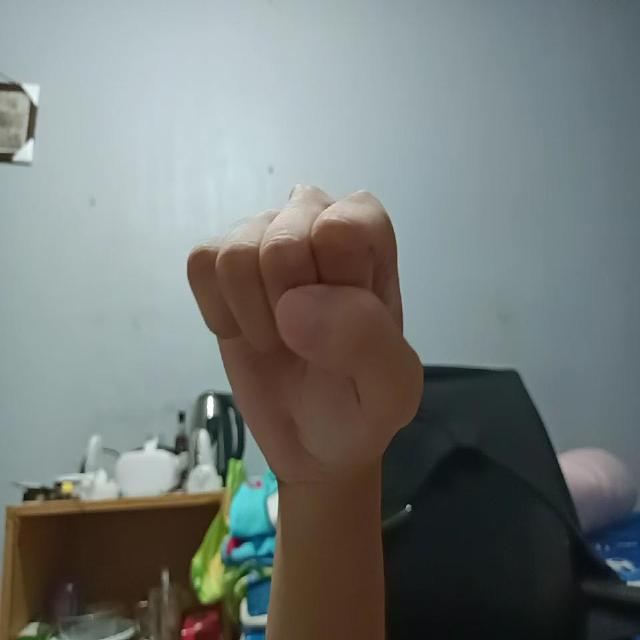fist: (180, 185, 430, 520)
